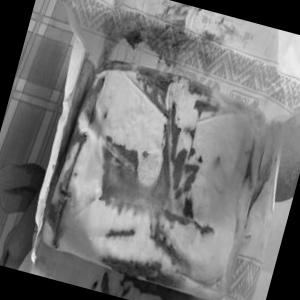butter: (30, 38, 290, 300)
